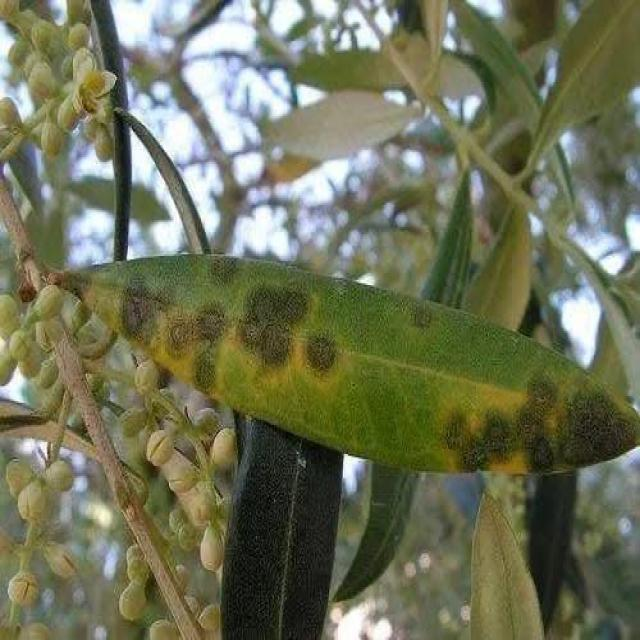OlivePeacockSpot: (63, 255, 635, 472)
